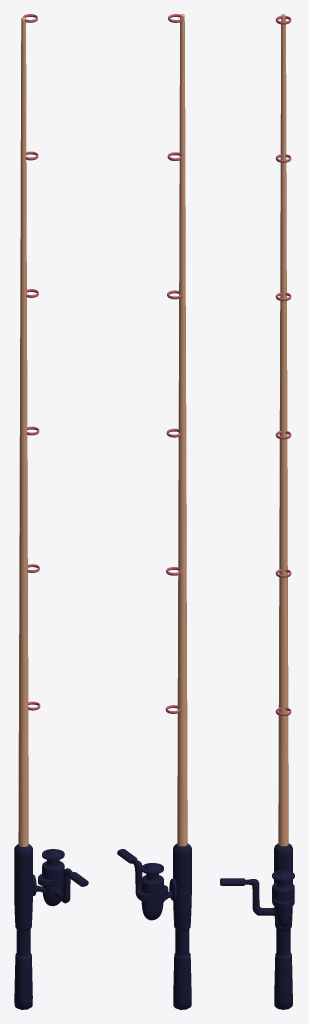
Rendered from fishing rod.fbx.
3 views of the same model, side by side, from view 1: azimuth 30°, elevation 25°; view 2: azimuth 210°, elevation 25°; view 3: azimuth 270°, elevation 25° (orthographic).
Visible parts, largest first — view 1: Cylinder.003, Cylinder.002, Cube.001, Cylinder.001; view 2: Cylinder.003, Cylinder.002, Cube.001, Cylinder.001; view 3: Cylinder.003, Cylinder.002, Cube.001, Cylinder.001.
Part boxes in pixels (<box>): Cylinder.003: <box>18,17,28,846</box>; Cylinder.002: <box>14,844,32,1009</box>; Cube.001: <box>38,849,88,906</box>; Cylinder.001: <box>23,14,40,710</box>; Cylinder.003: <box>177,14,187,846</box>; Cylinder.002: <box>173,843,191,1009</box>; Cube.001: <box>117,849,168,920</box>; Cylinder.001: <box>165,14,183,713</box>; Cylinder.003: <box>278,14,288,846</box>; Cylinder.002: <box>274,843,292,1009</box>; Cube.001: <box>220,870,294,927</box>; Cylinder.001: <box>275,16,291,715</box>.
Size of the model in its own units: 276 by 4964 by 339.
